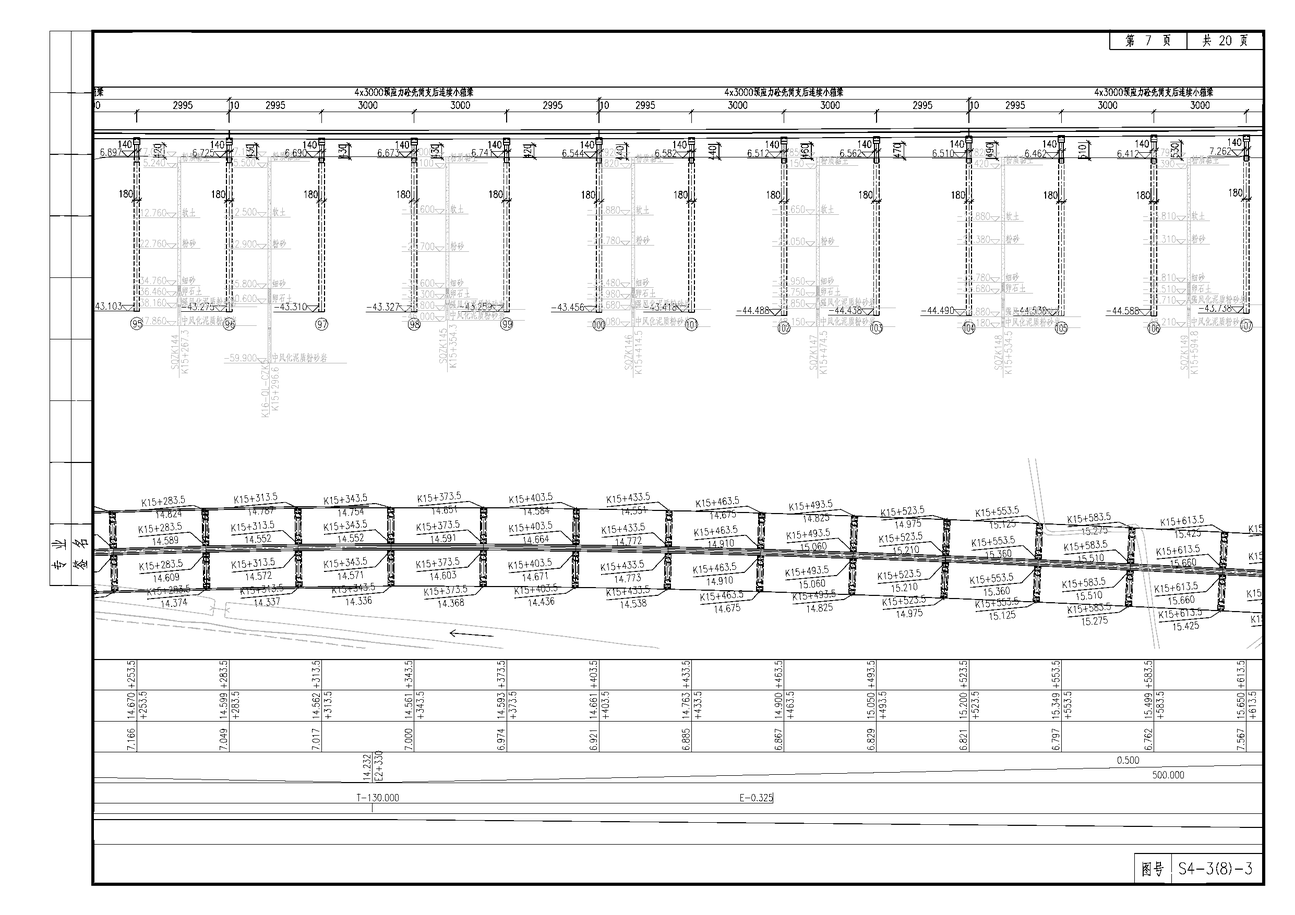A: (89, 69, 1268, 385)
